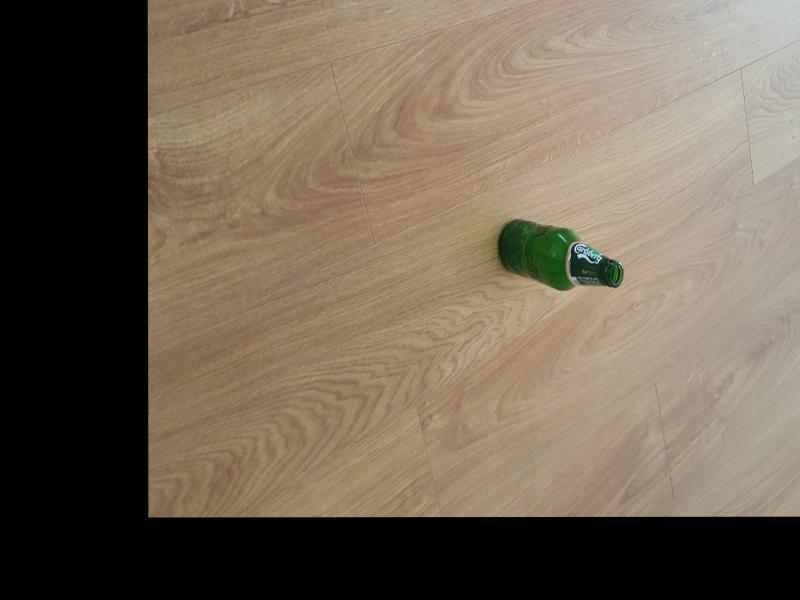Beer: (497, 217, 625, 291)
